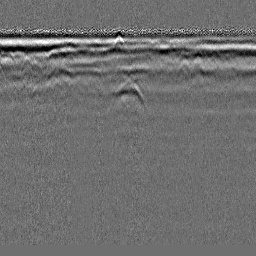cavity: (106, 76, 148, 112)
